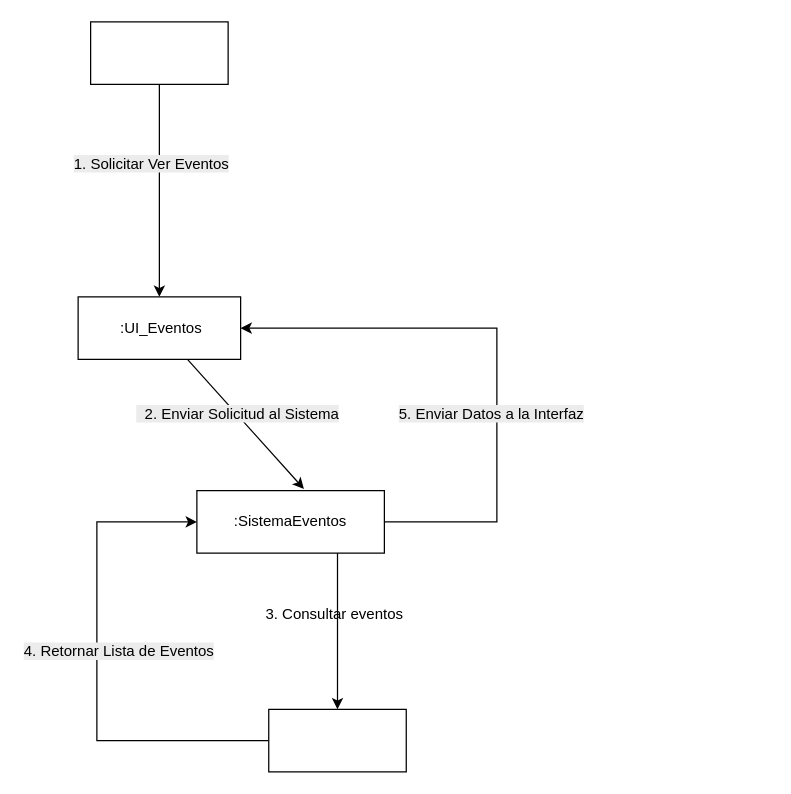
This 791x794 diagram has some shape labels left out. Here are the shapes that lost their labels. From the top down, the centre of each, then its label:
At point 158,52: ":Usuario".
At point 337,740: ":BD_Eventos".
